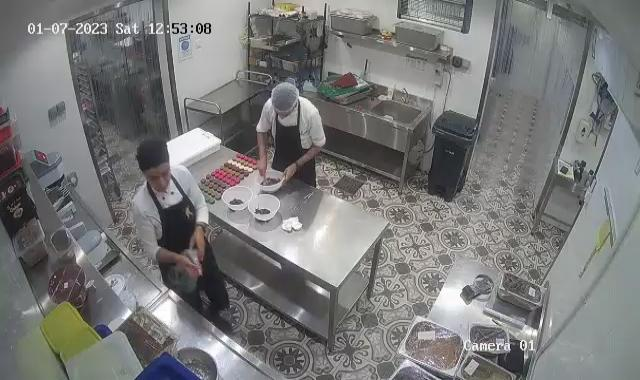hairnet: (271, 82, 301, 118)
no_hairnet: (136, 136, 170, 175)
